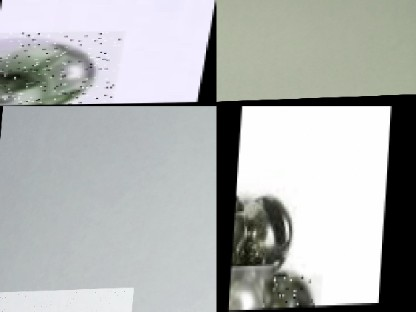ironball: (0, 31, 125, 106), (234, 192, 300, 289), (229, 265, 273, 311), (263, 276, 323, 309), (232, 181, 255, 267), (0, 103, 33, 106)
